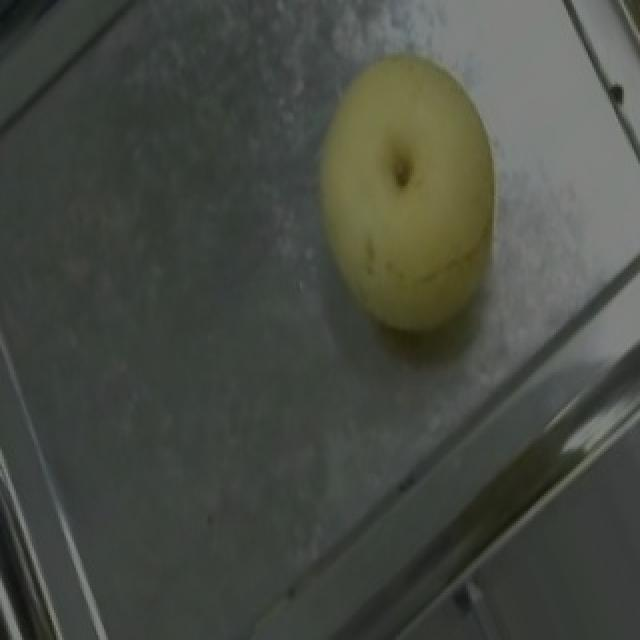Fruit: (268, 18, 552, 380)
